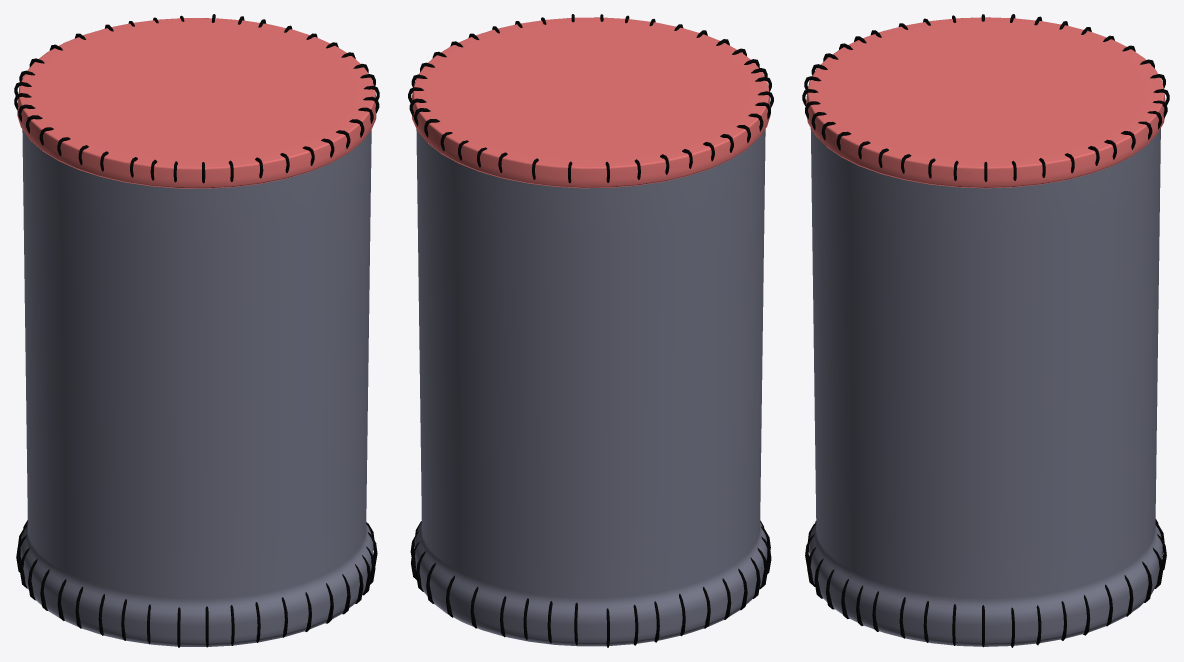
Rendered from dice cup.fbx.
The picture shows the model from 3 angles, left to right: view 1: azimuth 30°, elevation 25°; view 2: azimuth 150°, elevation 25°; view 3: azimuth 270°, elevation 25°; orthographic projection.
Visible parts, largest first — view 1: Würfelbescher, Cap, naht2, naht1; view 2: Würfelbescher, Cap, naht2, naht1; view 3: Würfelbescher, Cap, naht2, naht1.
Part boxes in pixels (<box>): Würfelbescher: <box>20,129,373,646</box>; Cap: <box>17,18,376,188</box>; naht2: <box>16,520,377,647</box>; naht1: <box>14,14,379,183</box>; Würfelbescher: <box>414,129,767,646</box>; Cap: <box>411,17,770,188</box>; naht2: <box>410,520,771,647</box>; naht1: <box>408,14,773,183</box>; Würfelbescher: <box>809,128,1162,646</box>; Cap: <box>806,17,1165,188</box>; naht2: <box>805,519,1166,647</box>; naht1: <box>802,14,1169,181</box>.
Size of the model in its own units: 25.61 by 37.9 by 25.72.
